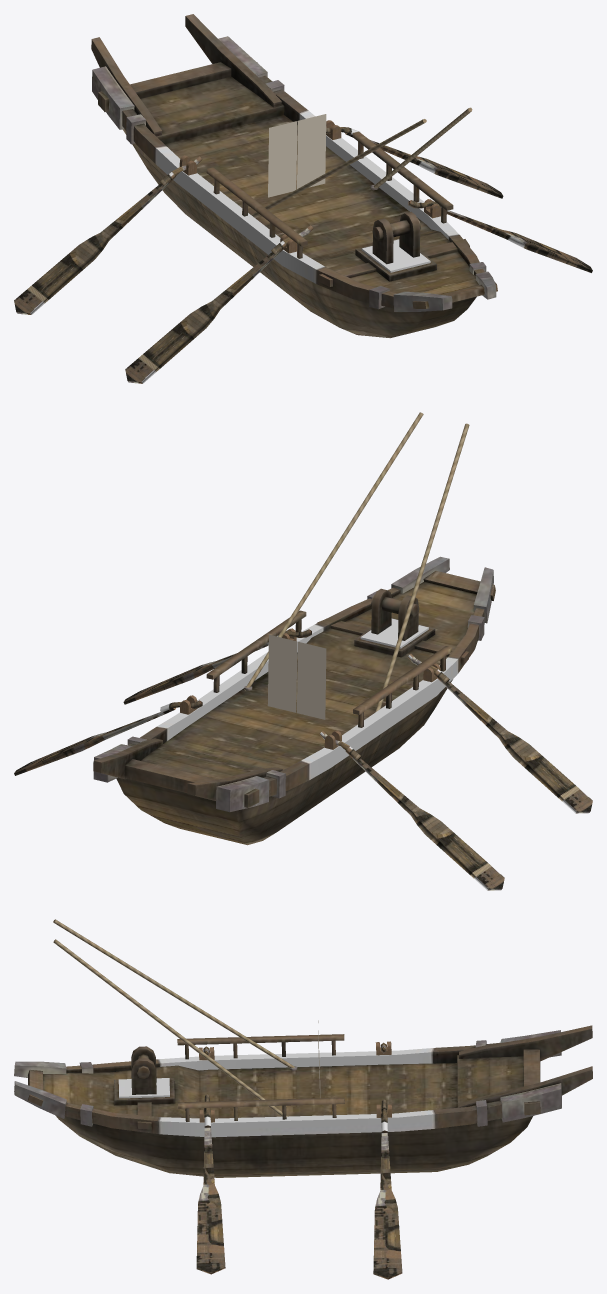
The model's file is 263-mengchong.glb.
The picture shows the model from 3 angles, top to bottom: view 1: azimuth 30°, elevation 25°; view 2: azimuth 150°, elevation 25°; view 3: azimuth 270°, elevation 25°; orthographic projection. The views are drawn at different scales.
Size of the model in its own units: 4.52 by 2.46 by 5.25.
Materials: 2 (1 with a texture image).
